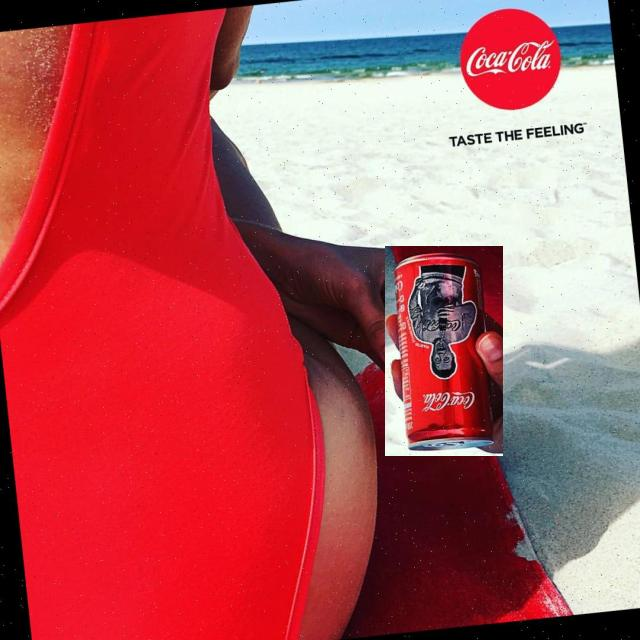coca-cola: (385, 246, 503, 456)
